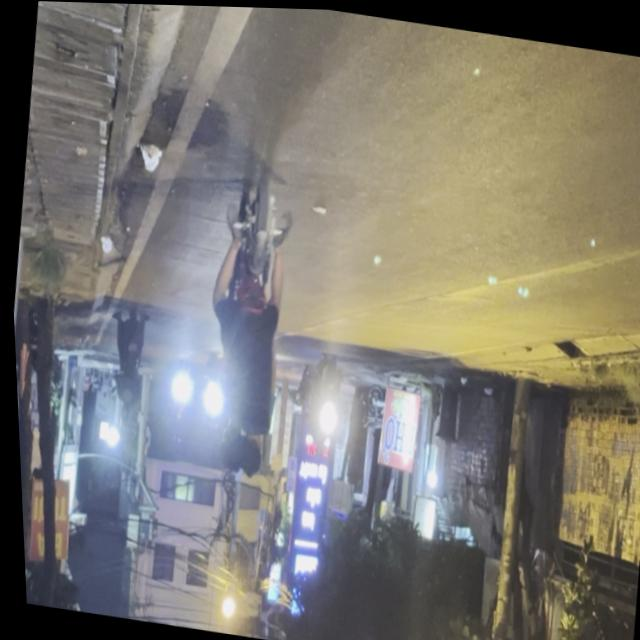licenseplate: (179, 156, 311, 487)
motorcyclist: (232, 432, 262, 478)
